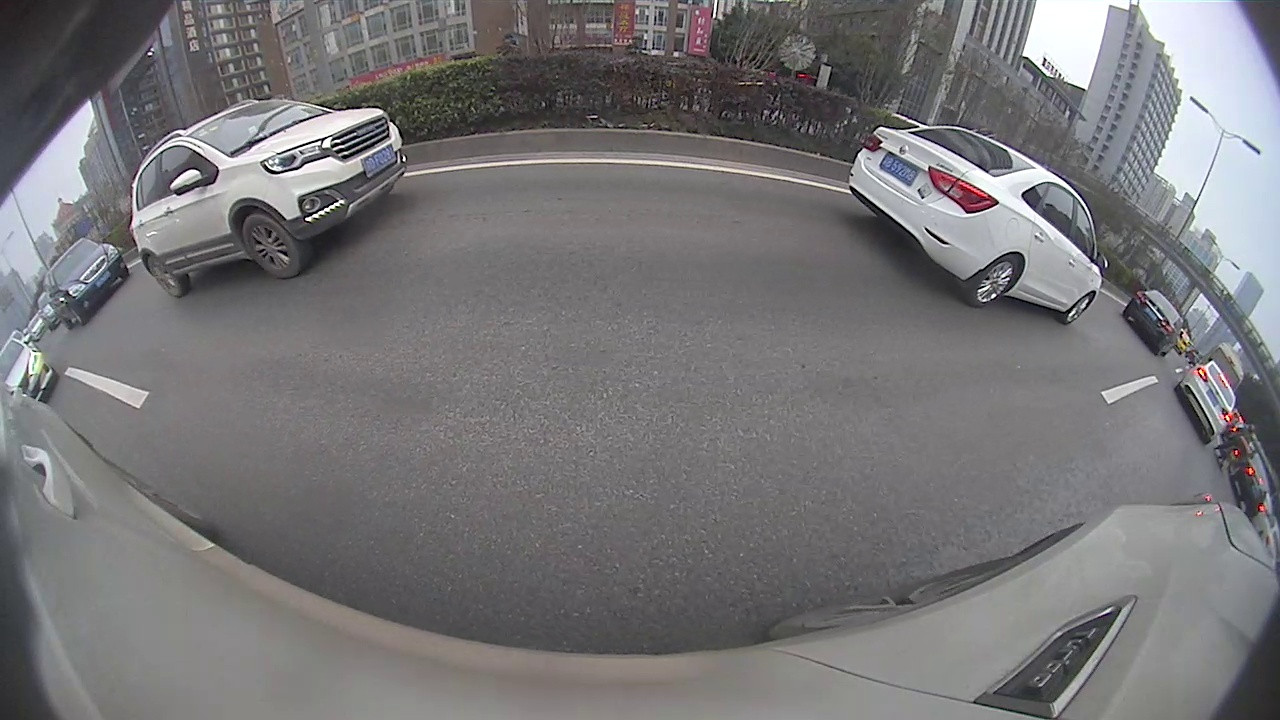bus: (1032, 168, 1279, 356), (340, 171, 451, 215)
car: (2, 275, 169, 405), (966, 203, 1099, 275), (173, 241, 251, 289), (1221, 340, 1279, 399), (820, 161, 892, 206), (739, 157, 792, 192), (622, 161, 649, 181)
front: (972, 215, 991, 238)
rear: (1179, 295, 1215, 342), (1042, 238, 1067, 267), (845, 187, 854, 203)
